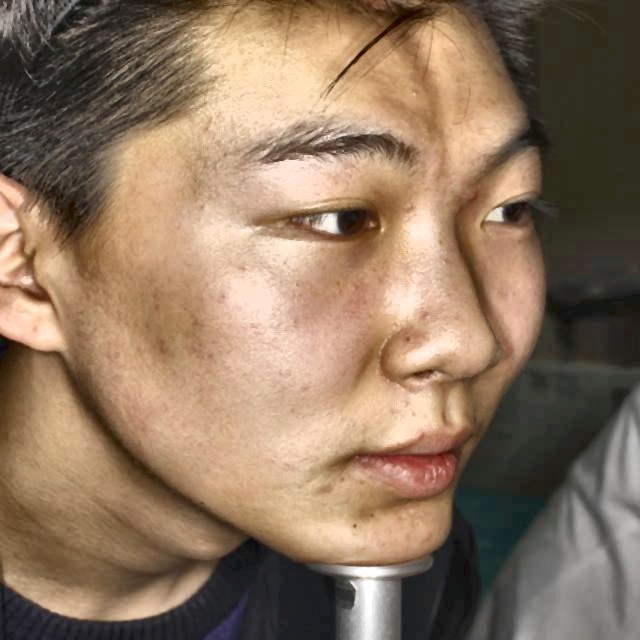comedone: (312, 469, 348, 498)
